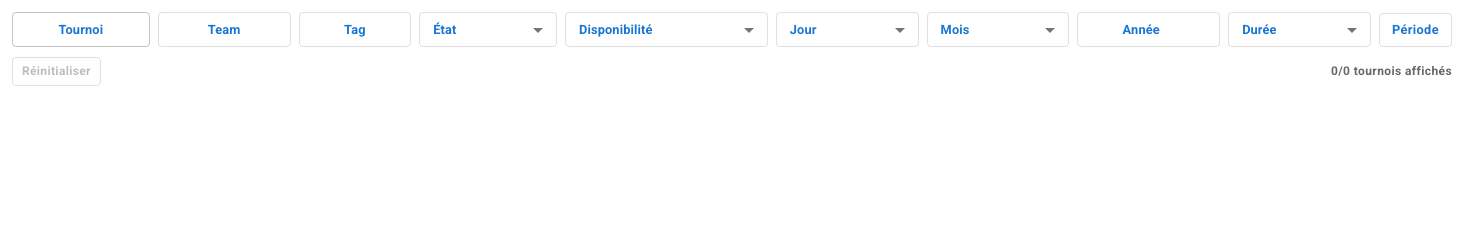
it: TournamentFilters › select filters › admin sees the EN_PREPARATION state option
Step 1. Click the dropdown labelled "État" → (445, 29), box [433,22,456,36]
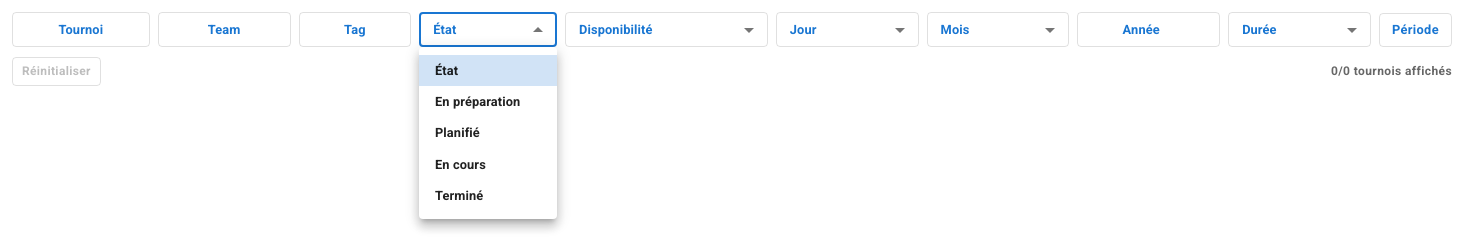
Result: the option "En préparation" is shown at [435,94,520,109]
